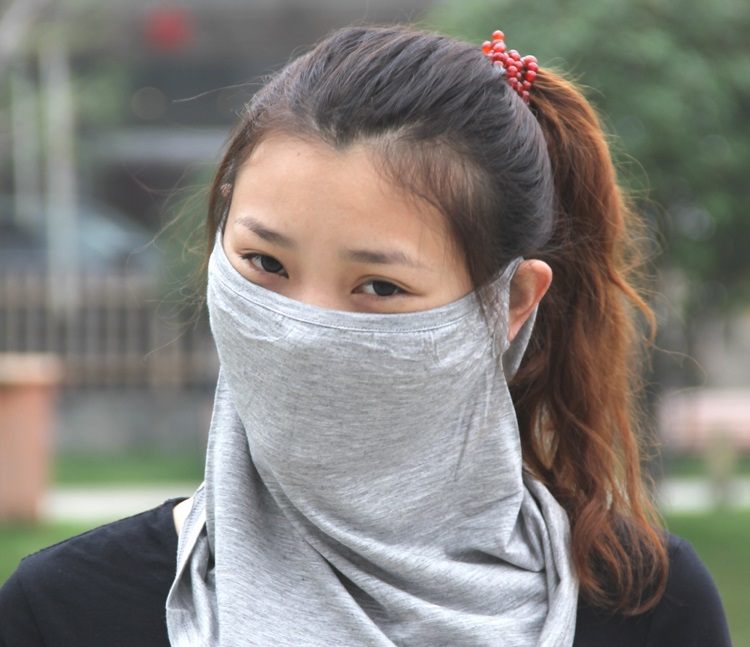face_mask: (212, 140, 480, 477)
